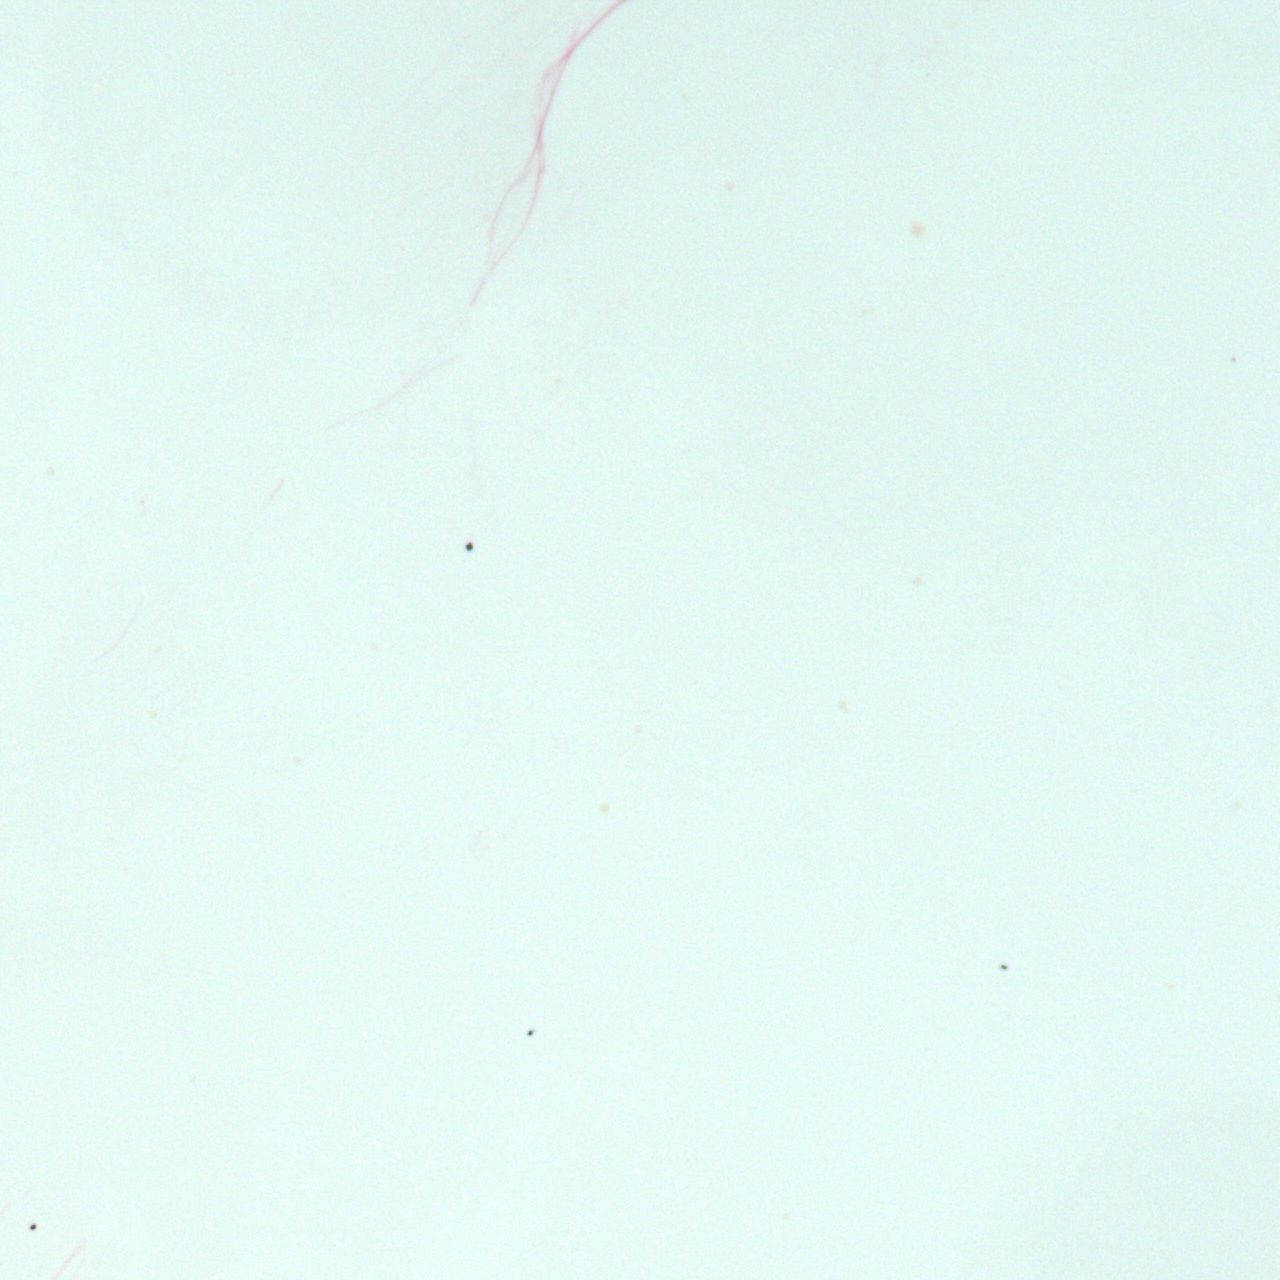dust: (524, 1028, 535, 1036), (464, 542, 473, 551), (999, 963, 1008, 971), (29, 1224, 38, 1231)
